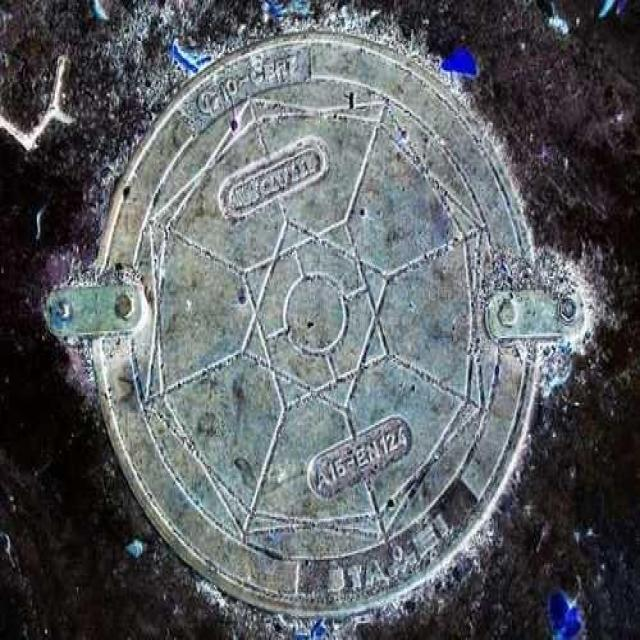manhole: (93, 37, 539, 617)
